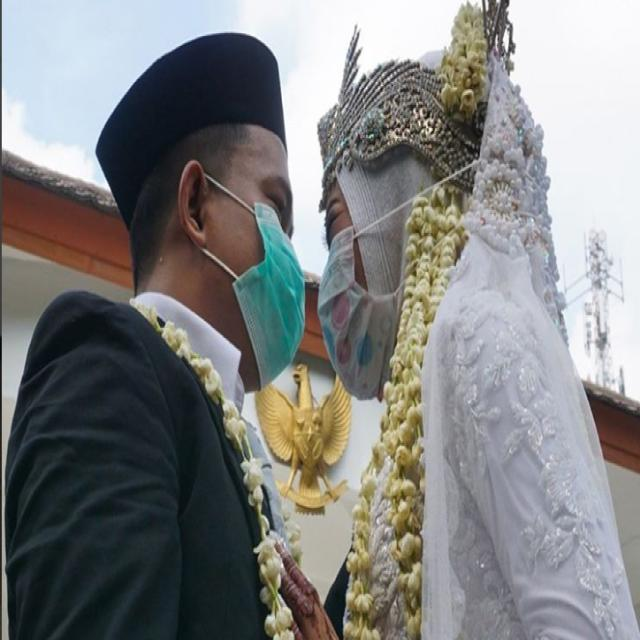hat: (94, 30, 289, 227)
